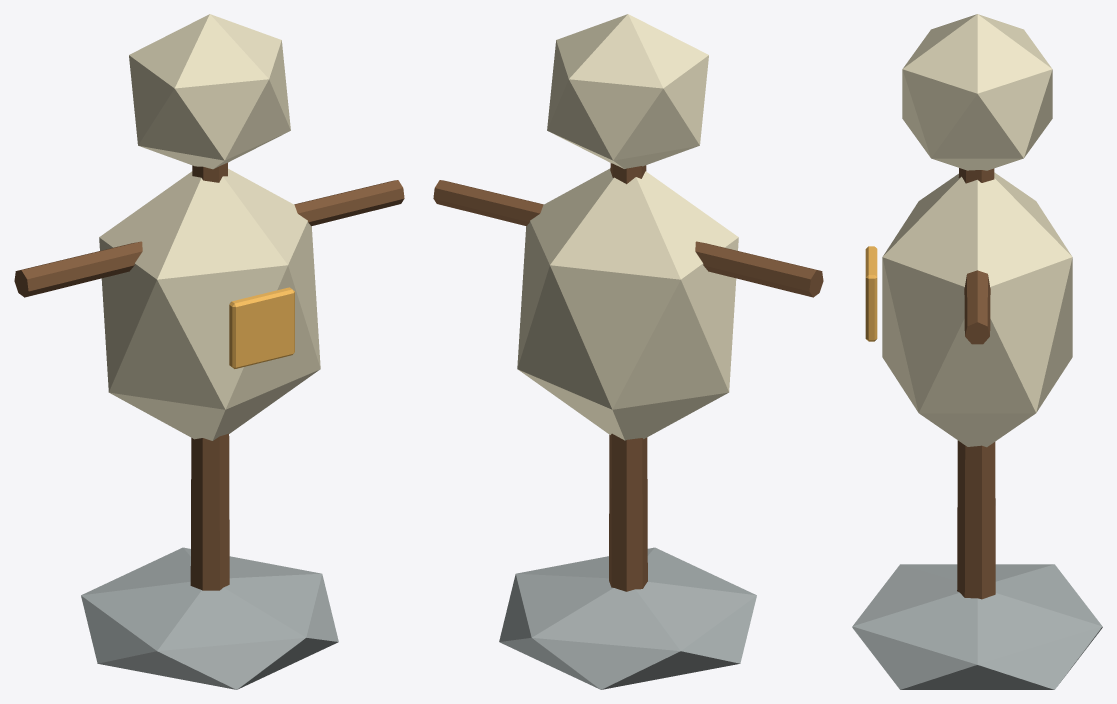
The model's file is CC_Barracks.fbx.
3 renders of one model, left to right at view 1: azimuth 30°, elevation 25°; view 2: azimuth 150°, elevation 25°; view 3: azimuth 270°, elevation 25°, orthographic.
Parts seen in each view (by area): view 1: Straw body, Dummy base, Straw head, Dummy post, Dummy arms, Target patch; view 2: Straw body, Dummy base, Straw head, Dummy post, Dummy arms; view 3: Straw body, Dummy base, Straw head, Dummy post, Dummy arms, Target patch.
Boxes of the visible parts, x1,y1,x2,y2 form: Straw body: [99, 168, 320, 440]; Dummy base: [81, 547, 338, 689]; Straw head: [129, 14, 290, 169]; Dummy post: [190, 162, 229, 590]; Dummy arms: [14, 180, 404, 297]; Target patch: [229, 287, 294, 368]; Straw body: [517, 168, 738, 440]; Dummy base: [499, 547, 756, 689]; Straw head: [547, 14, 708, 168]; Dummy post: [609, 163, 647, 591]; Dummy arms: [433, 180, 823, 297]; Straw body: [882, 172, 1072, 447]; Dummy base: [852, 564, 1102, 689]; Straw head: [902, 14, 1052, 170]; Dummy post: [957, 168, 995, 599]; Dummy arms: [964, 270, 990, 344]; Target patch: [865, 246, 877, 341].
Bounding box in the file's own units: 1.5 × 2.45 × 0.8506.
